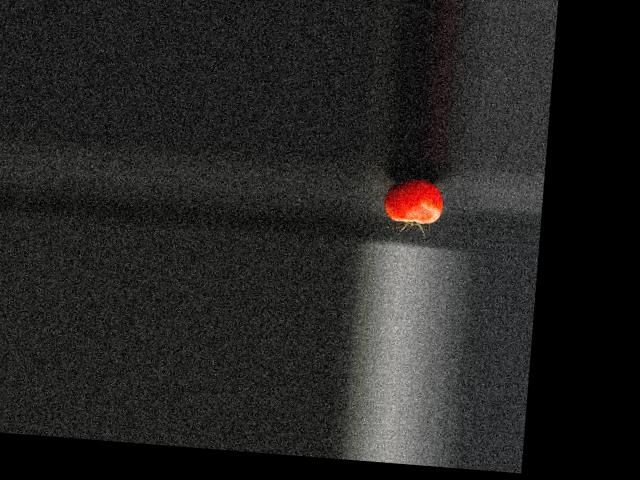tomato: (383, 176, 445, 224)
